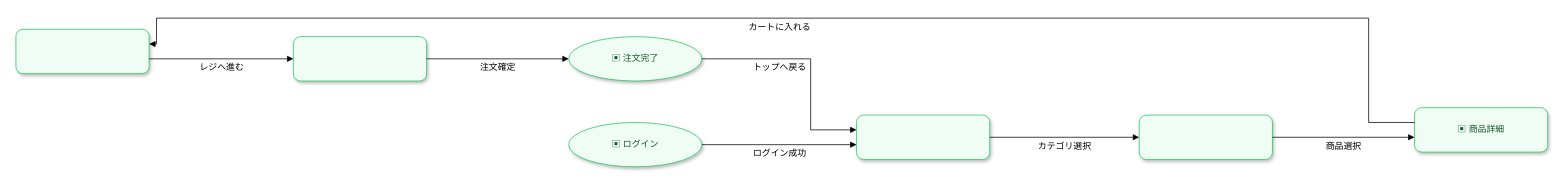
Some shapes in this 1565 by 185 pixel diagram are drawn without their labels. Here are the shapes that lost their labels. From the top down, the centre of each, then its label:
At point 83,52: "▣ カート".
At point 360,59: "▣ 購入手続き".
At point 923,138: "▣ ホーム".
At point 1206,138: "▣ 商品一覧".
